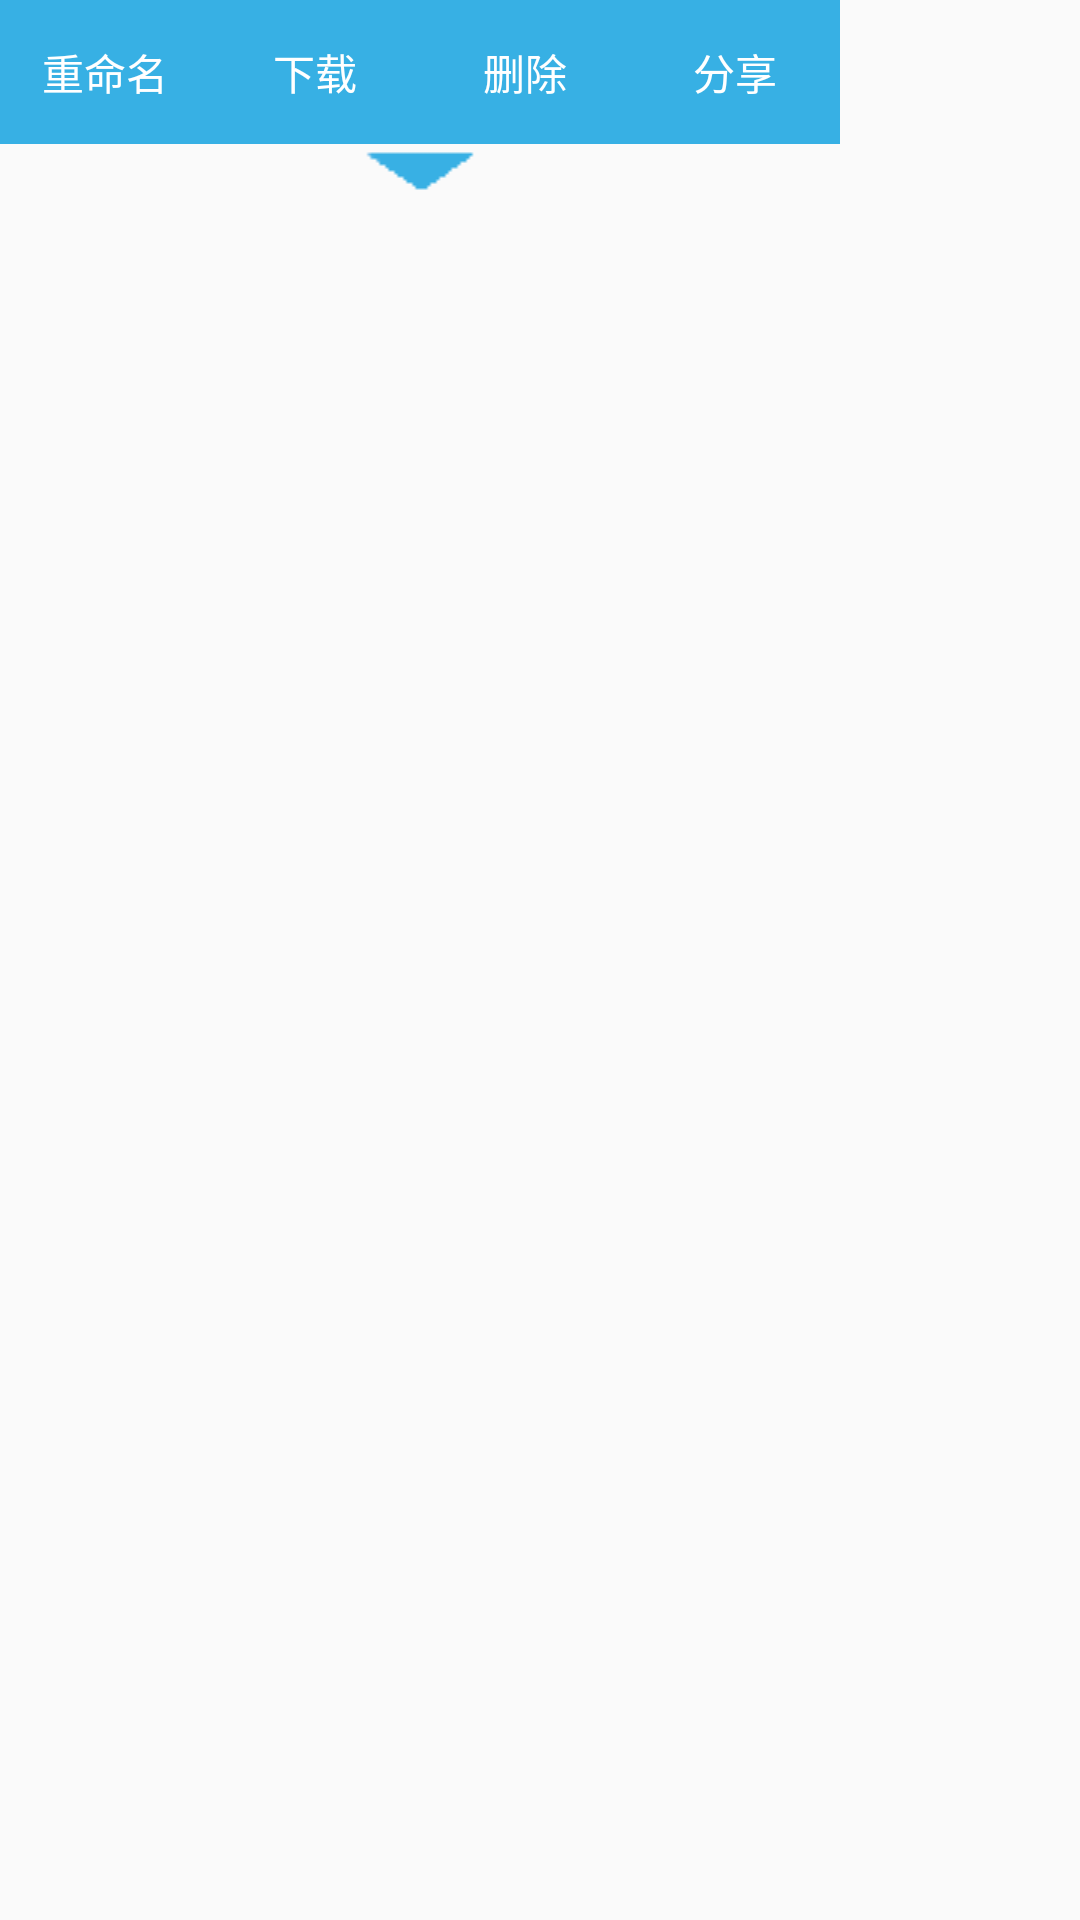

Named icons in this screenshot (1080*1920) and their centers, (x,y):
arrow: (420,171)
